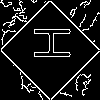H: (25, 25, 70, 61)
